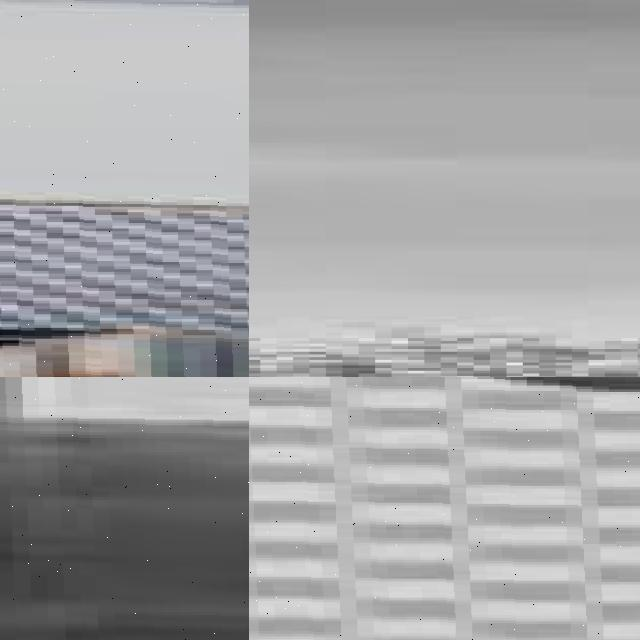street light: (249, 377, 640, 640), (0, 0, 249, 377), (0, 377, 249, 640)
